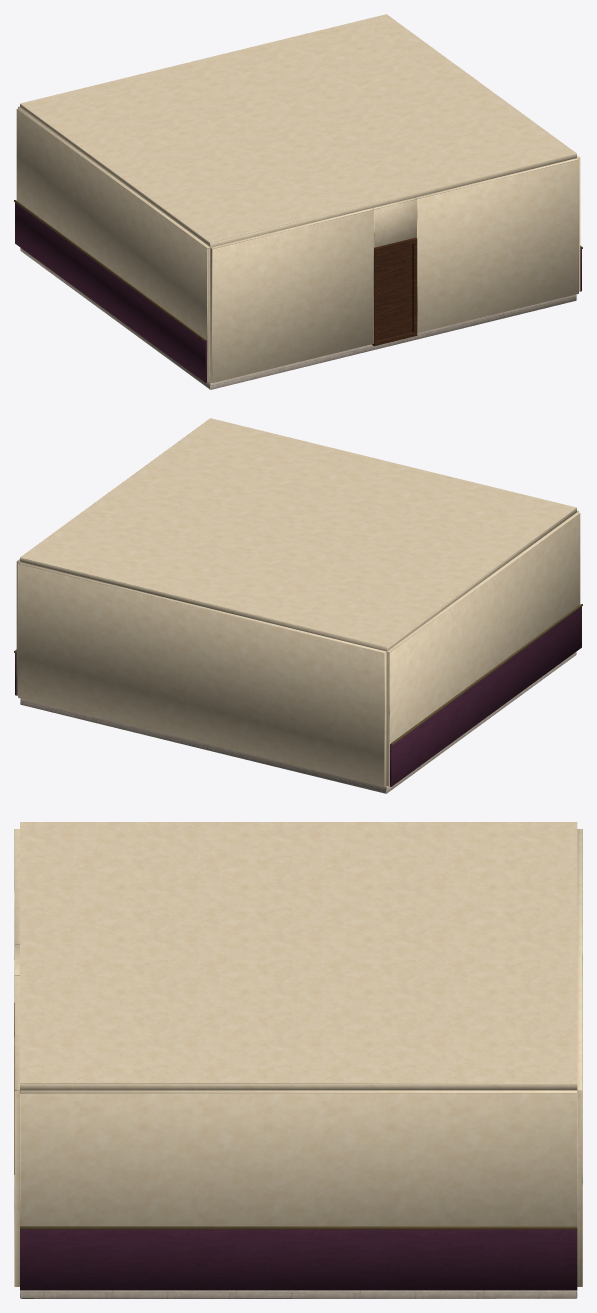
The model's file is explore3d__mirror_workbay.glb.
3 renders of one model, top to bottom at view 1: azimuth 30°, elevation 25°; view 2: azimuth 150°, elevation 25°; view 3: azimuth 270°, elevation 25°, orthographic. The views are drawn at different scales.
Parts seen in each view (by area): view 1: Rebuilt_mirror_workbay; view 2: Rebuilt_mirror_workbay; view 3: Rebuilt_mirror_workbay.
Part boxes in pixels (<box>): Rebuilt_mirror_workbay: <box>14,14,582,389</box>; Rebuilt_mirror_workbay: <box>14,418,582,793</box>; Rebuilt_mirror_workbay: <box>14,822,582,1298</box>.
Bounding box in the file's own units: 10.32 × 3.84 × 9.19.
15 materials, 12 textured.
